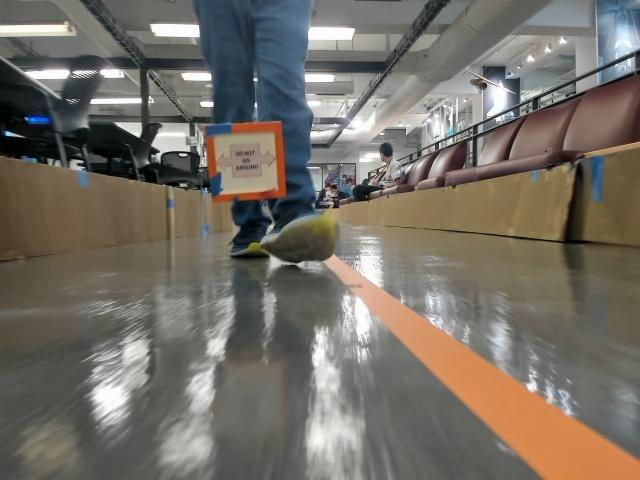Do Not Go Around: (214, 144, 272, 178)
